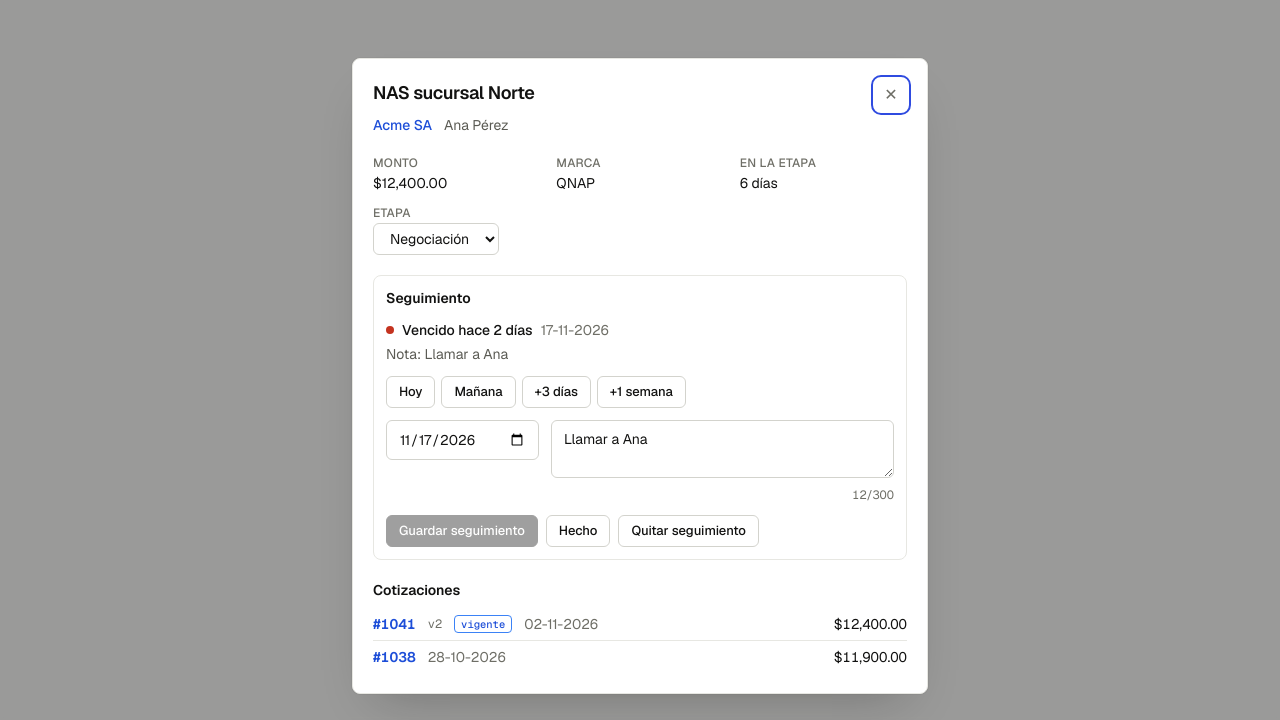
Test: OportunidadPanel › seguimiento › "Hecho" vacía el formulario, ayuda a elegir y enfoca el primer atajo; guardar sin fecha deja null/null
Expected: the dialog "NAS sucursal Norte" is shown, [352,58,928,694]
Expected: the heading "Seguimiento" is shown, [386,289,471,307]
Click the button "Hecho" at {"x": 578, "y": 531}, box [546,515,610,547]
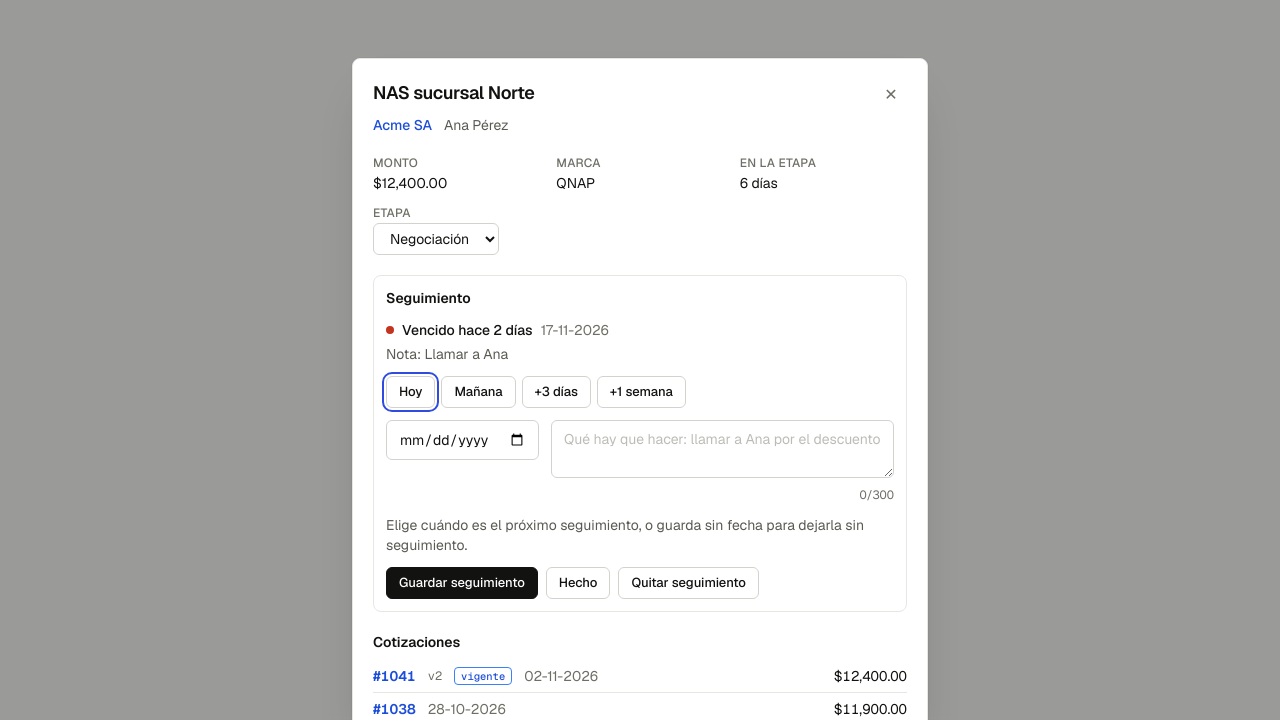
Now the date field named "Fecha del próximo seguimiento" is empty, box [386,420,539,460]
Now the text box named "Nota del seguimiento" is empty, box [551,420,894,478]
Now the text "Elige cuándo es el próximo seguimiento, o guarda sin fecha para dejarla sin seguimiento." is shown, box [386,516,864,554]
Click the button "Guardar seguimiento" at {"x": 462, "y": 583}, box [386,567,538,599]
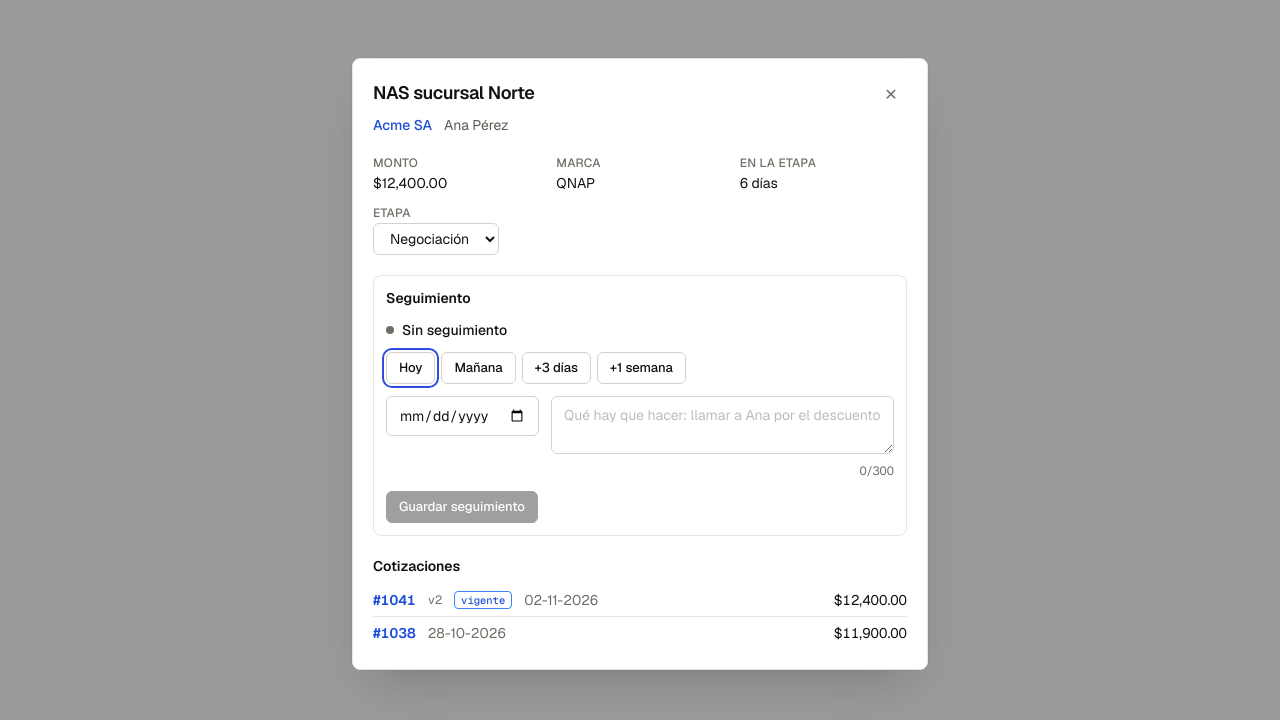
Now the text "Sin seguimiento" is shown, box [402,320,507,340]
Now the button "Hecho" is gone
